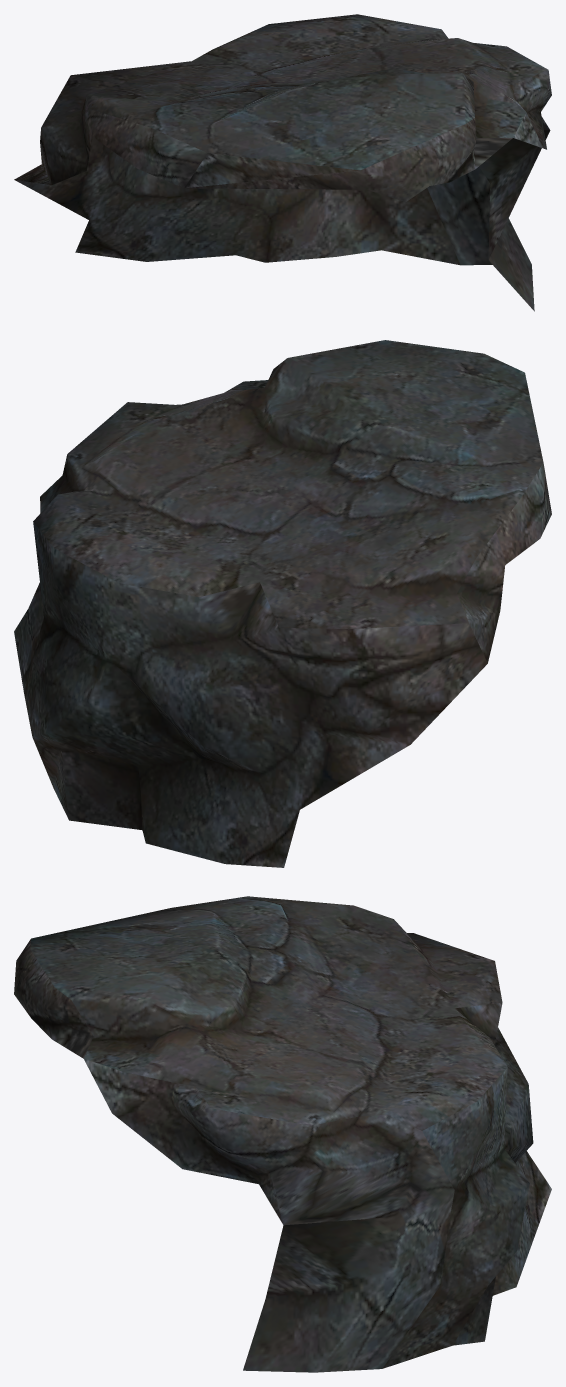
Rendered from S_Rock_Yellow033_12.FBX.
3 renders of one model, top to bottom at view 1: azimuth 30°, elevation 25°; view 2: azimuth 150°, elevation 25°; view 3: azimuth 270°, elevation 25°, orthographic. The views are drawn at different scales.
Visible parts, largest first — view 1: S_Rock_Yellow033_12; view 2: S_Rock_Yellow033_12; view 3: S_Rock_Yellow033_12.
Part boxes in pixels (left/top/right/bottom): S_Rock_Yellow033_12: left=14, top=14, right=551, bottom=311; S_Rock_Yellow033_12: left=14, top=340, right=551, bottom=867; S_Rock_Yellow033_12: left=14, top=896, right=551, bottom=1372.
Size of the model in its own units: 297 by 298 by 197.
